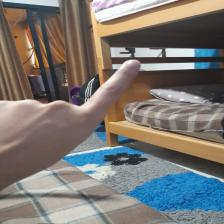one: (6, 61, 145, 190)
